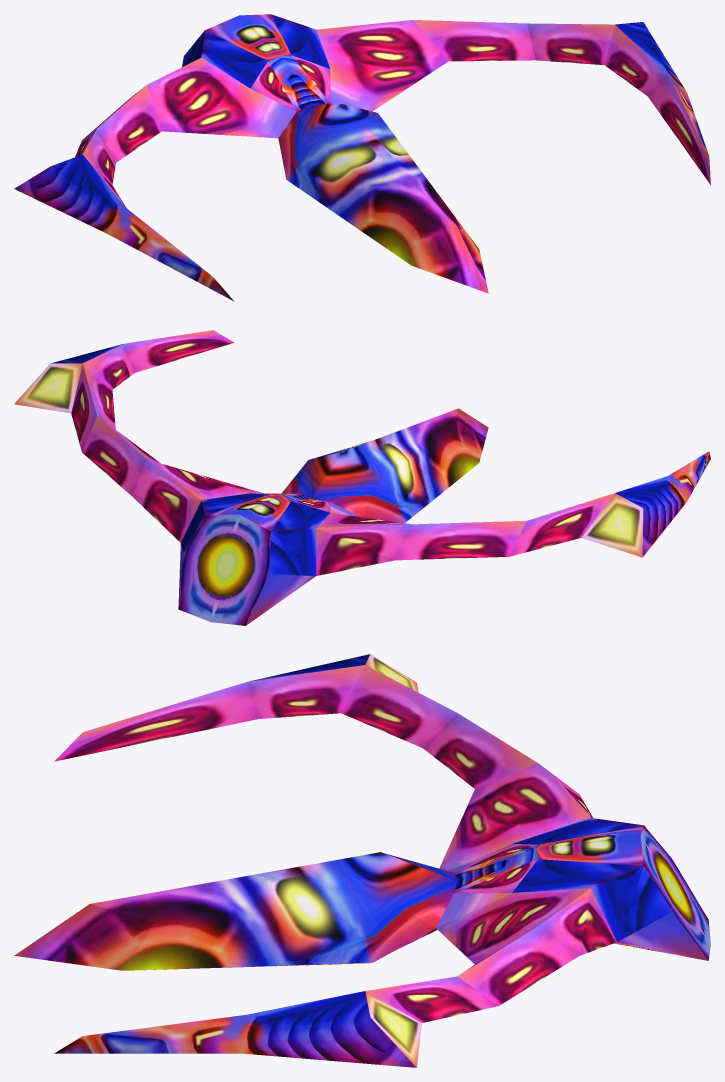
Rendered from ship-28.fbx.
3 renders of one model, top to bottom at view 1: azimuth 30°, elevation 25°; view 2: azimuth 150°, elevation 25°; view 3: azimuth 270°, elevation 25°, orthographic. The views are drawn at different scales.
Visible parts, largest first — view 1: ship-28; view 2: ship-28; view 3: ship-28.
Boxes of the visible parts, x1,y1,x2,y2 form: ship-28: [14, 14, 710, 301]; ship-28: [14, 330, 710, 625]; ship-28: [14, 654, 710, 1067].
Size of the model in its own units: 103 by 16.88 by 78.78.
